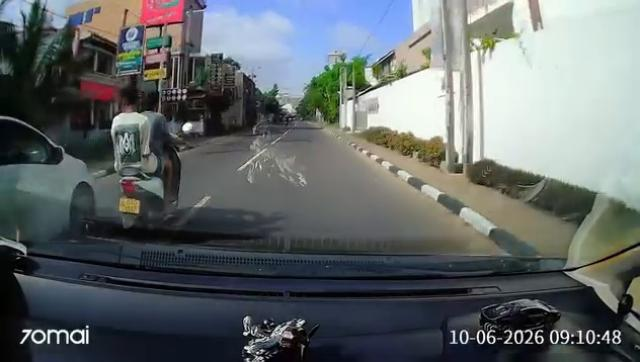no helmet: (113, 87, 139, 121), (144, 82, 162, 116)
number plate: (114, 197, 143, 215)
